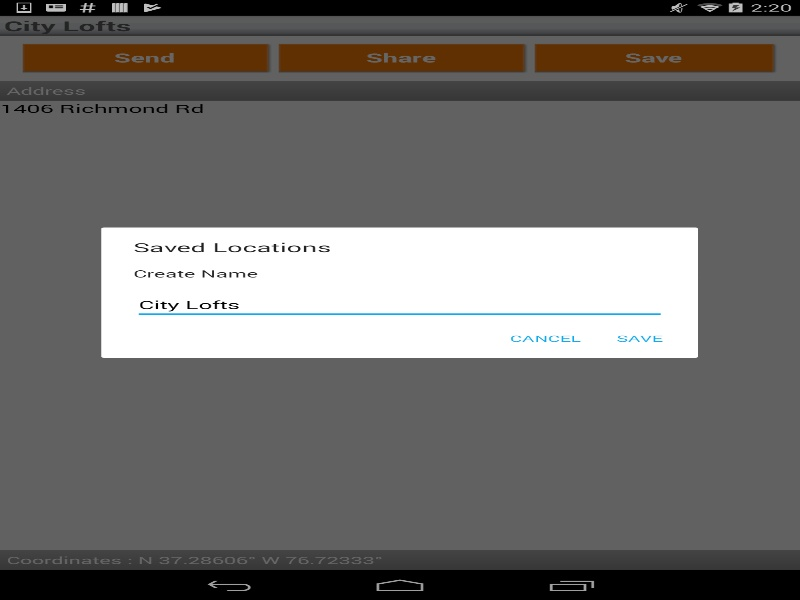Button: (494, 321, 596, 355), (596, 321, 682, 355)
Input: (133, 285, 666, 319)
